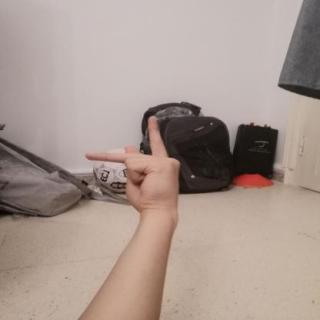DHAA: (75, 108, 192, 222)
